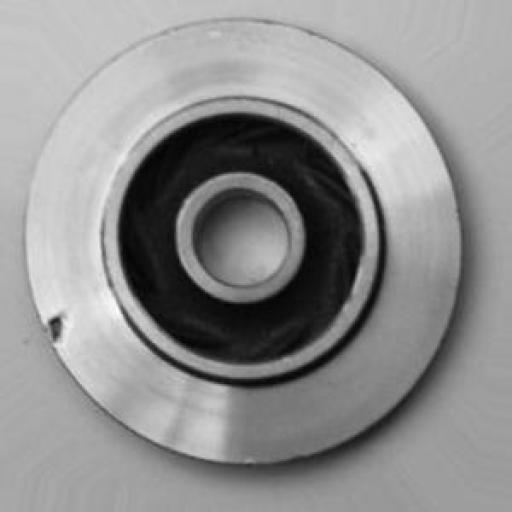defect: (44, 294, 77, 358)
